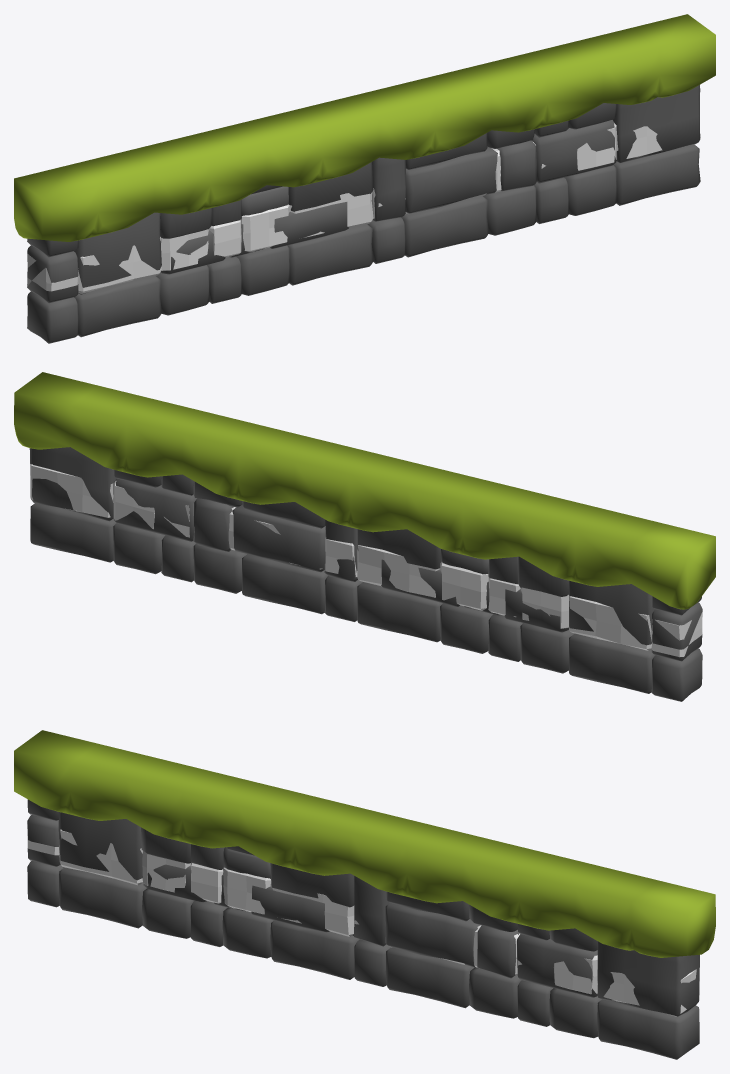
Rendered from Ground2.fbx.
The picture shows the model from 3 angles, top to bottom: view 1: azimuth 30°, elevation 25°; view 2: azimuth 150°, elevation 25°; view 3: azimuth 330°, elevation 25°; orthographic projection.
Parts seen in each view (by area): view 1: tasDuvar, grassGround, Cube.019, Cube.021, Cube.022, Cube.018, Cube.020, Cube.013, Cube.012, Cube.023; view 2: tasDuvar, grassGround, Cube.018, Cube.021, Cube.019, Cube.012, Cube.022, Cube.013, Cube.023, Cube.017, Cube.020; view 3: tasDuvar, grassGround, Cube.019, Cube.018, Cube.021, Cube.020, Cube.022, Cube.013, Cube.012.
Part boxes in pixels (x1=…): tasDuvar: x1=27, y1=85, x2=700, y2=343; grassGround: x1=14, y1=14, x2=715, y2=241; Cube.019: x1=241, y1=204, x2=289, y2=252; Cube.021: x1=78, y1=237, x2=161, y2=293; Cube.022: x1=160, y1=229, x2=209, y2=270; Cube.018: x1=289, y1=192, x2=373, y2=237; Cube.020: x1=209, y1=219, x2=241, y2=257; Cube.013: x1=577, y1=123, x2=616, y2=170; Cube.012: x1=616, y1=126, x2=700, y2=158; Cube.023: x1=27, y1=254, x2=78, y2=291; tasDuvar: x1=29, y1=447, x2=702, y2=701; grassGround: x1=14, y1=372, x2=715, y2=609; Cube.018: x1=357, y1=545, x2=439, y2=597; Cube.021: x1=569, y1=595, x2=651, y2=650; Cube.019: x1=440, y1=562, x2=488, y2=610; Cube.012: x1=30, y1=464, x2=113, y2=517; Cube.022: x1=520, y1=587, x2=568, y2=628; Cube.013: x1=113, y1=481, x2=154, y2=529; Cube.023: x1=651, y1=612, x2=702, y2=657; Cube.017: x1=325, y1=537, x2=357, y2=577; Cube.020: x1=488, y1=577, x2=520, y2=617; tasDuvar: x1=27, y1=799, x2=699, y2=1059; grassGround: x1=14, y1=730, x2=715, y2=957; Cube.019: x1=223, y1=867, x2=270, y2=914; Cube.018: x1=270, y1=880, x2=354, y2=936; Cube.021: x1=59, y1=829, x2=142, y2=885; Cube.020: x1=190, y1=862, x2=223, y2=903; Cube.022: x1=142, y1=851, x2=190, y2=892; Cube.013: x1=553, y1=955, x2=597, y2=994; Cube.012: x1=597, y1=969, x2=699, y2=1016.
Bounding box in the file's own units: 3465 × 750 × 254.
